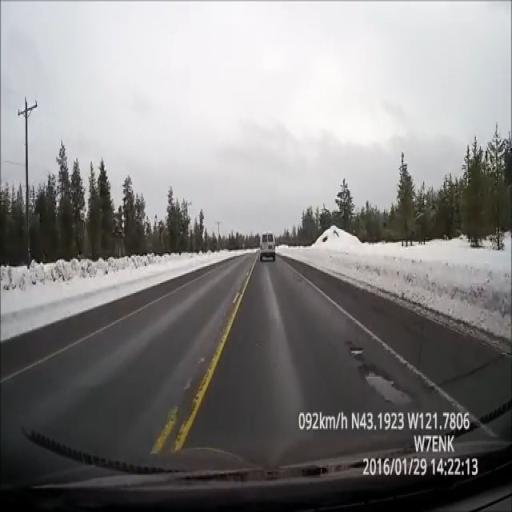Potholes: (366, 371, 411, 405), (350, 348, 362, 356)
